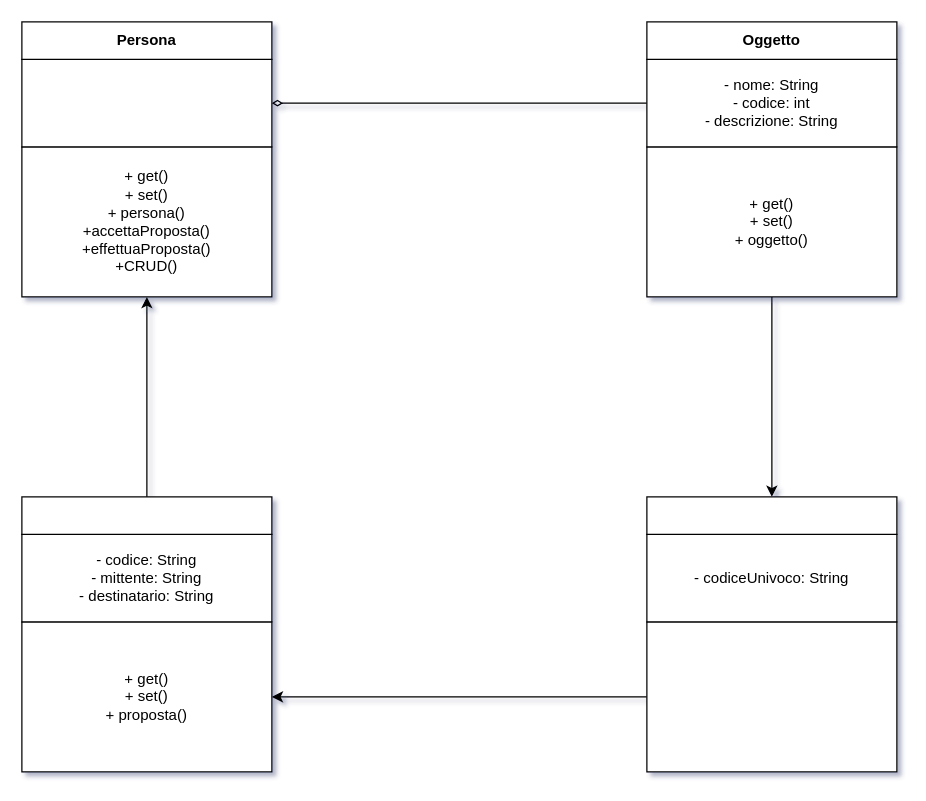
The diagram is 926 pixels wide and 801 high, and some of its shapes have lost their labels. Each missing label, with the centre of its shape:
"+ get() + set() + transazione()" belongs at point 771,696.
"- nominativo: String - codiceAuto: String + elencoOggetti: List" belongs at point 146,102.
"Proposta" belongs at point 146,515.
"Transazione" belongs at point 771,515.
